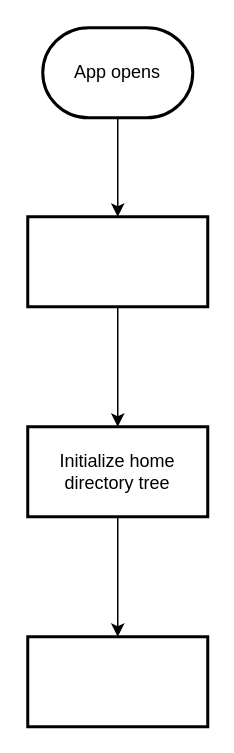
Image size: 234x753. Some labels were removed from this diagram. Here are the shapes that lost their labels. From the top down, the centre of each, then its label:
point (117, 261): Initialize variables DB
point (117, 681): Initialize logger
